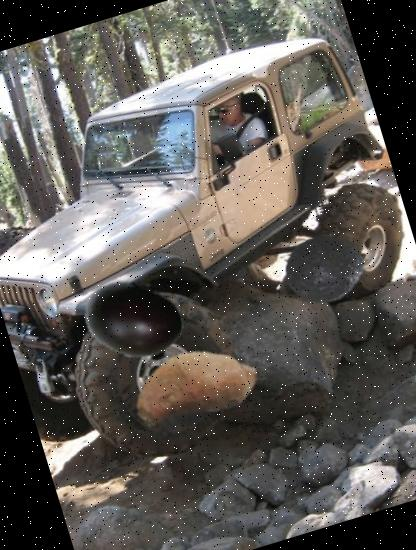Avocado: (276, 216, 376, 316)
Eggplant: (70, 255, 197, 382)
Potato: (114, 302, 278, 466)
